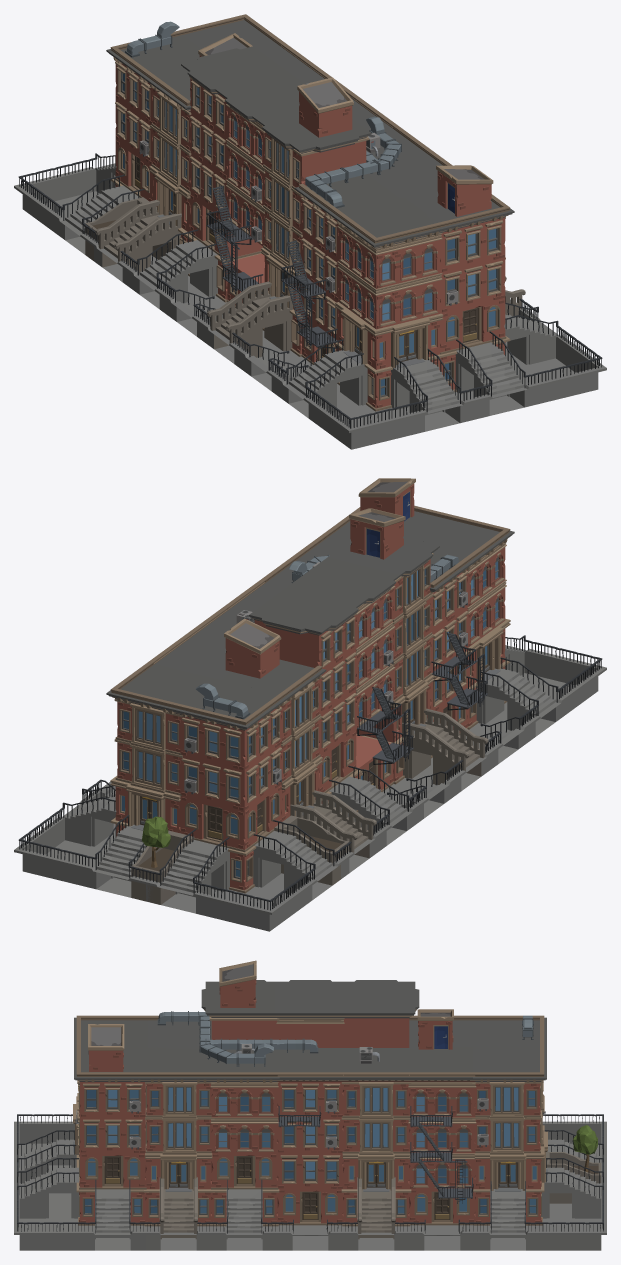
Rendered from buildings.glb.
The picture shows the model from 3 angles, top to bottom: view 1: azimuth 30°, elevation 25°; view 2: azimuth 150°, elevation 25°; view 3: azimuth 270°, elevation 25°; orthographic projection. The views are drawn at different scales.
Parts seen in each view (by area): view 1: SM_Bld_Apartment_Stairs_Corner_3, SM_Bld_Apartment_Stairs_Corner_4, SM_Bld_Apartment_Stairs_Corner_2, SM_Bld_Apartment_Stack_1576, SM_Bld_Apartment_Stairs_7, SM_Bld_Apartment_Stairs_6, SM_Bld_Apartment_Stairs_3, SM_Bld_Apartment_Door_Corner_1477, SM_Bld_Apartment_Stack_1570, SM_Bld_Apartment_Corner_1481, SM_Bld_Apartment_Stack_1573, SM_Bld_Apartment_Corner_1483 (+38 smaller); view 2: SM_Bld_Apartment_Stairs_Corner_2, SM_Bld_Apartment_Stairs_Corner_01_225, SM_Bld_Apartment_Stairs_Corner_3, SM_Bld_Apartment_Stack_1570, SM_Bld_Apartment_Stairs_7, SM_Bld_Apartment_Stack_1576, SM_Bld_Apartment_Door_Corner_1546, SM_Bld_Apartment_Stack_1573, SM_Bld_Apartment_Corner_1552, SM_Bld_Apartment_Corner_100, SM_Bld_Apartment_Stack_1580, SM_Bld_Apartment_Roof_Corner_1826 (+39 smaller); view 3: SM_Bld_Apartment_Stairs_Corner_4, SM_Bld_Apartment_Stairs_Corner_01_225, SM_Bld_Apartment_Stairs_01_234, SM_Bld_Apartment_Stairs_02_238, SM_Bld_Apartment_Stairs_2, SM_Bld_Apartment_Stairs_Corner_3, SM_Bld_Apartment_Roof_Corner_1826, SM_Bld_Apartment_Door_Corner_1540, SM_Bld_Apartment_Roof_1830, SM_Bld_Apartment_Roof_Corner_41, SM_Bld_Apartment_1506, SM_Bld_Apartment_Door_Corner_02_1486 (+49 smaller).
Boxes of the visible parts, bbox=[...] form: SM_Bld_Apartment_Stairs_Corner_3: bbox=[274, 339, 477, 449]; SM_Bld_Apartment_Stairs_Corner_4: bbox=[439, 302, 606, 419]; SM_Bld_Apartment_Stairs_Corner_2: bbox=[14, 153, 143, 254]; SM_Bld_Apartment_Stack_1576: bbox=[262, 126, 369, 274]; SM_Bld_Apartment_Stairs_7: bbox=[200, 281, 302, 369]; SM_Bld_Apartment_Stairs_6: bbox=[125, 229, 261, 315]; SM_Bld_Apartment_Stairs_3: bbox=[88, 199, 188, 288]; SM_Bld_Apartment_Door_Corner_1477: bbox=[335, 302, 443, 369]; SM_Bld_Apartment_Stack_1570: bbox=[189, 76, 227, 219]; SM_Bld_Apartment_Corner_1481: bbox=[337, 261, 442, 329]; SM_Bld_Apartment_Stack_1573: bbox=[225, 104, 265, 246]; SM_Bld_Apartment_Corner_1483: bbox=[337, 224, 442, 288]; SM_Bld_Apartment_Stairs_Corner_2: bbox=[143, 820, 346, 931]; SM_Bld_Apartment_Stairs_Corner_01_225: bbox=[14, 785, 146, 897]; SM_Bld_Apartment_Stairs_Corner_3: bbox=[467, 635, 606, 742]; SM_Bld_Apartment_Stack_1570: bbox=[254, 613, 356, 755]; SM_Bld_Apartment_Stairs_7: bbox=[356, 708, 495, 797]; SM_Bld_Apartment_Stack_1576: bbox=[393, 553, 433, 702]; SM_Bld_Apartment_Door_Corner_1546: bbox=[180, 784, 281, 852]; SM_Bld_Apartment_Stack_1573: bbox=[355, 586, 395, 729]; SM_Bld_Apartment_Corner_1552: bbox=[180, 744, 282, 811]; SM_Bld_Apartment_Corner_100: bbox=[180, 706, 282, 770]; SM_Bld_Apartment_Stack_1580: bbox=[430, 570, 468, 710]; SM_Bld_Apartment_Roof_Corner_1826: bbox=[249, 586, 363, 635]; SM_Bld_Apartment_Stairs_Corner_4: bbox=[14, 1158, 145, 1250]; SM_Bld_Apartment_Stairs_Corner_01_225: bbox=[473, 1158, 606, 1250]; SM_Bld_Apartment_Stairs_01_234: bbox=[341, 1177, 411, 1250]; SM_Bld_Apartment_Stairs_02_238: bbox=[209, 1179, 279, 1250]; SM_Bld_Apartment_Stairs_2: bbox=[144, 1177, 211, 1250]; SM_Bld_Apartment_Stairs_Corner_3: bbox=[14, 1114, 78, 1197]; SM_Bld_Apartment_Roof_Corner_1826: bbox=[343, 980, 419, 1018]; SM_Bld_Apartment_Door_Corner_1540: bbox=[474, 1125, 547, 1191]; SM_Bld_Apartment_Roof_1830: bbox=[275, 980, 345, 1018]; SM_Bld_Apartment_Roof_Corner_41: bbox=[473, 1044, 546, 1082]; SM_Bld_Apartment_1506: bbox=[210, 1117, 278, 1153]; SM_Bld_Apartment_Door_Corner_02_1486: bbox=[79, 1145, 146, 1189].
Size of the model in its own units: 20.25 by 18.24 by 45.
1 material, 1 textured.
